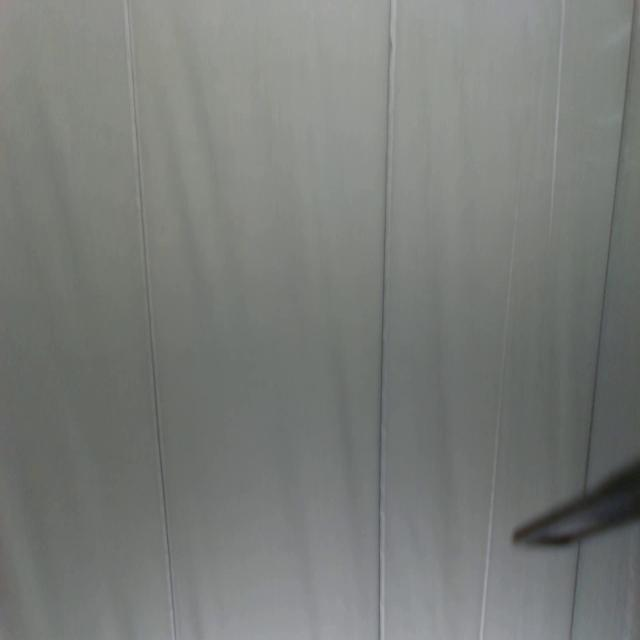crease: (568, 0, 639, 636), (124, 1, 178, 640), (477, 217, 518, 639), (377, 0, 399, 639), (549, 0, 568, 235)
